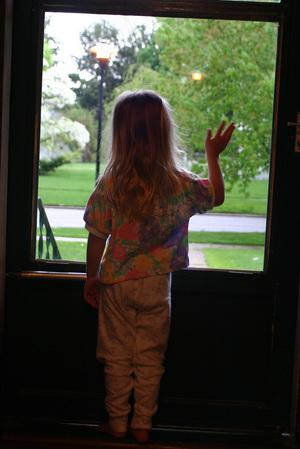person: (84, 89, 237, 449)
